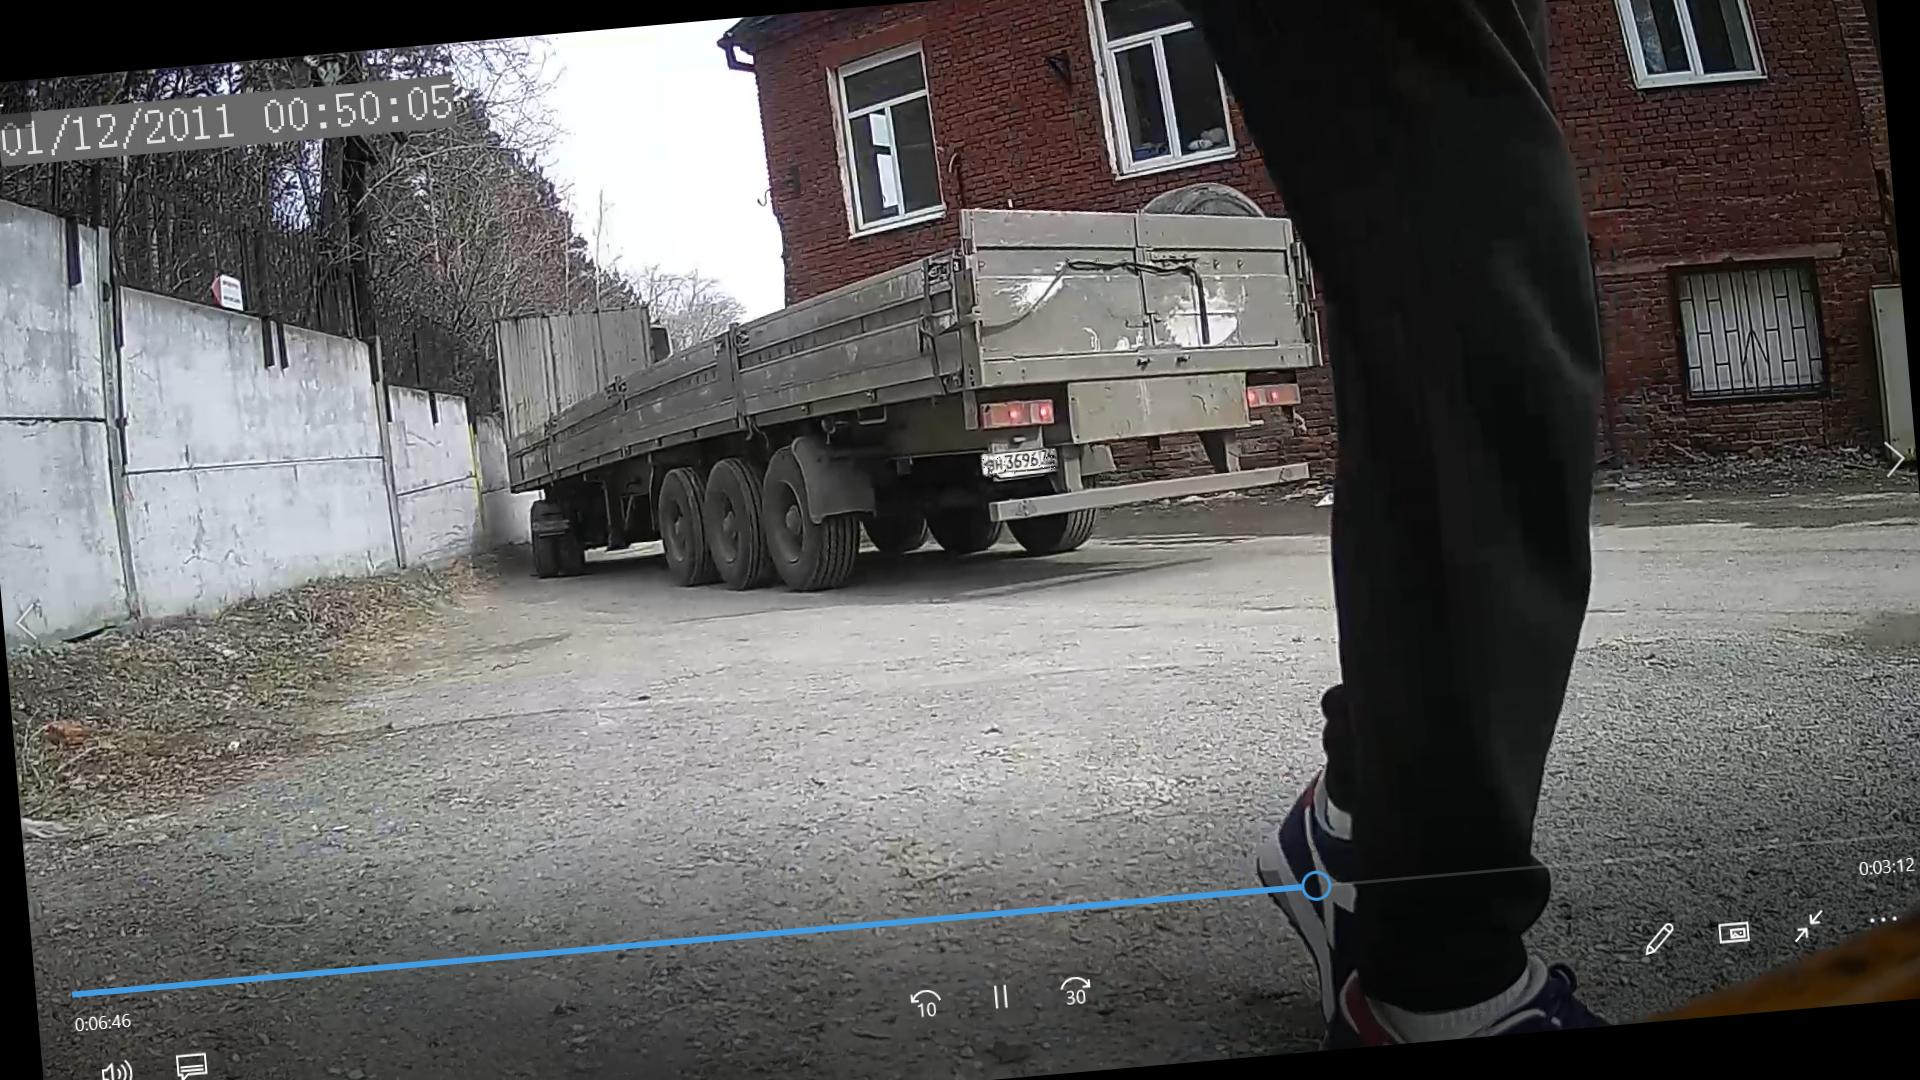plate: (983, 451, 1058, 478)
